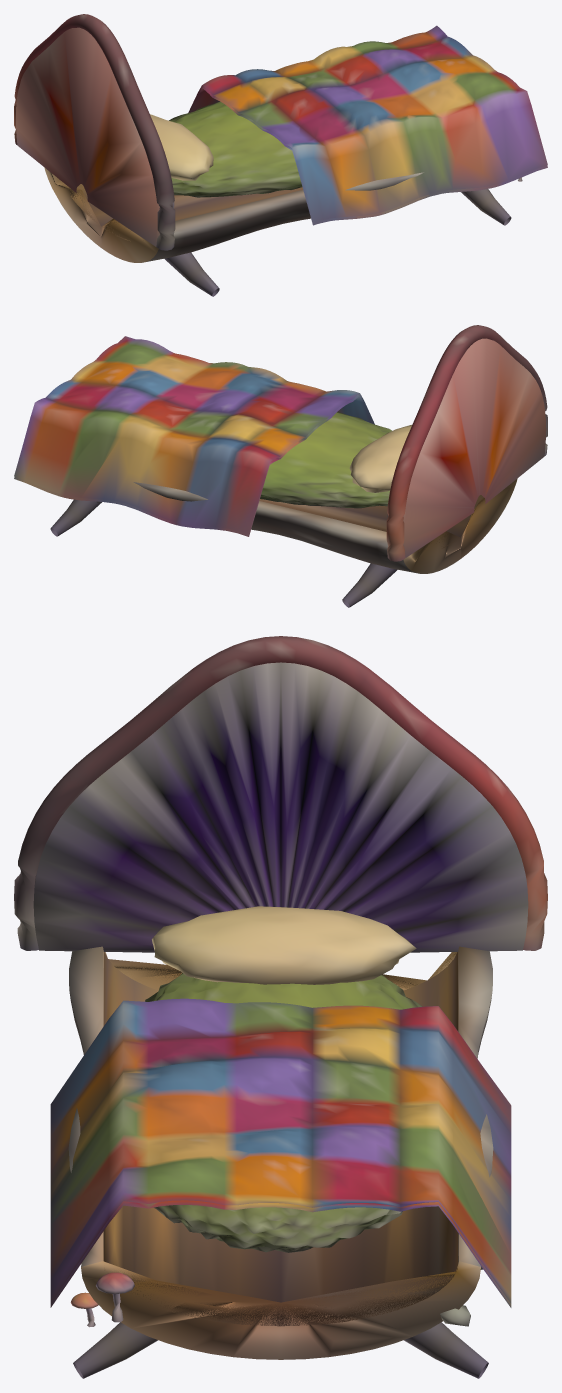
Rendered from kabuk_yatak.glb.
3 views of the same model, one above another, from view 1: azimuth 30°, elevation 25°; view 2: azimuth 150°, elevation 25°; view 3: azimuth 270°, elevation 25° (orthographic). The views are drawn at different scales.
Parts seen in each view (by area): view 1: kabuk_yatak_LOD0; view 2: kabuk_yatak_LOD0; view 3: kabuk_yatak_LOD0.
Boxes of the visible parts, box(x1,y1,x2,y2) form: kabuk_yatak_LOD0: box(14, 14, 547, 296); kabuk_yatak_LOD0: box(14, 325, 547, 607); kabuk_yatak_LOD0: box(14, 636, 547, 1378).
Size of what is drawn, in the model's own units: 2.52 by 1.48 by 1.63.
